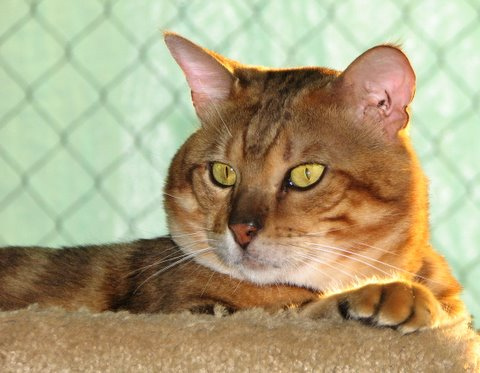cat: (1, 30, 468, 334)
